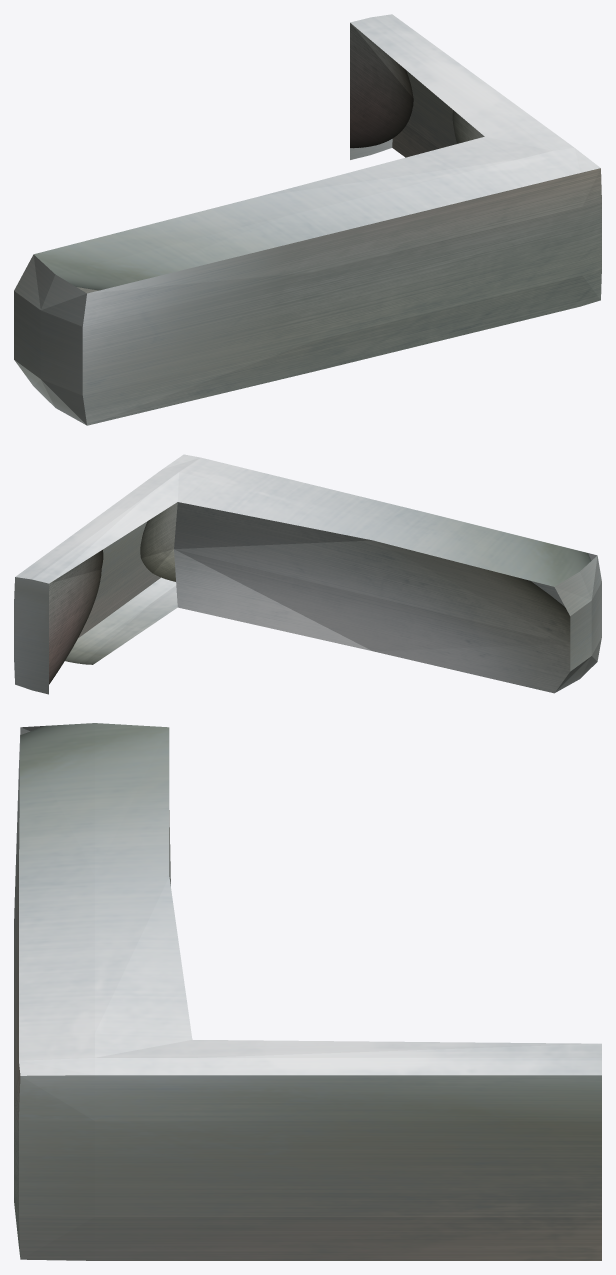
Rendered from door2.obj.
3 renders of one model, top to bottom at view 1: azimuth 30°, elevation 25°; view 2: azimuth 150°, elevation 25°; view 3: azimuth 270°, elevation 25°, orthographic. The views are drawn at different scales.
Parts seen in each view (by area): view 1: 立方体; view 2: 立方体; view 3: 立方体.
Part boxes in pixels (box(x1,y1,x2,y2)): 立方体: box(14, 14, 601, 425); 立方体: box(14, 454, 601, 694); 立方体: box(14, 723, 601, 1260).
Bounding box in the file's own units: 1.22 × 0.3 × 0.8349.
Materials: 1 (1 with a texture image).
